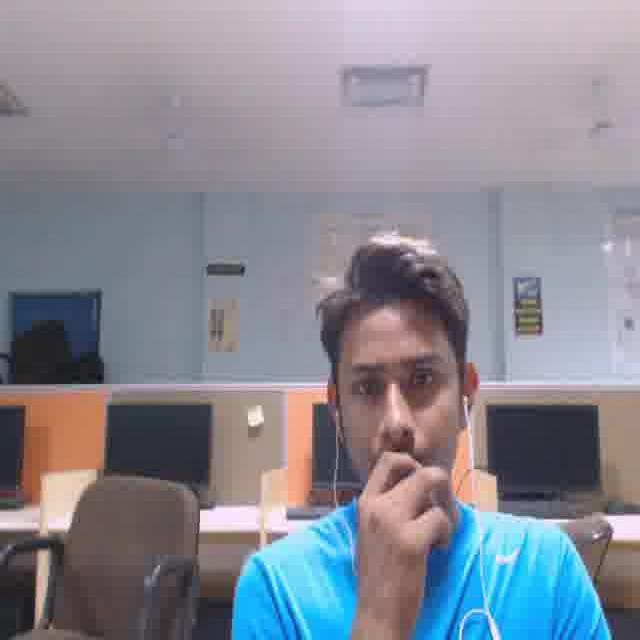Confusion: (338, 315, 460, 516)
